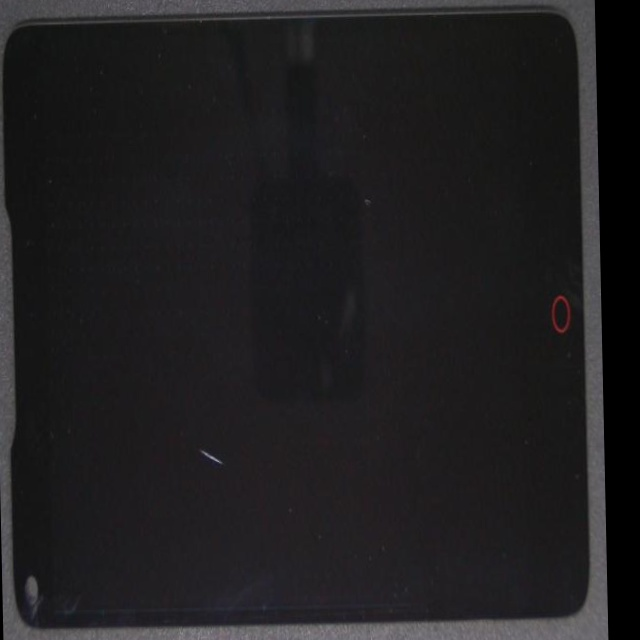scratch: (92, 152, 294, 640)
